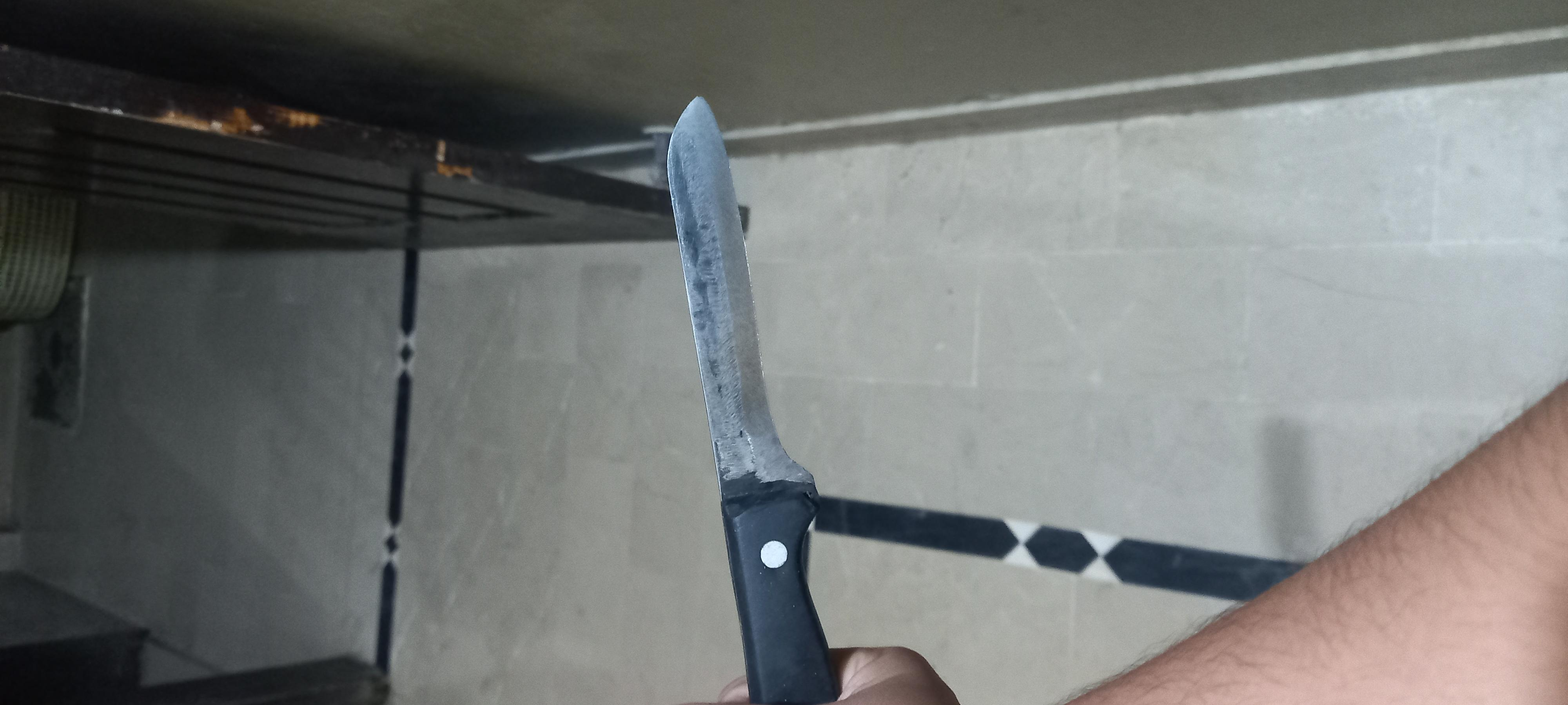knives: (1, 294, 1375, 380)
